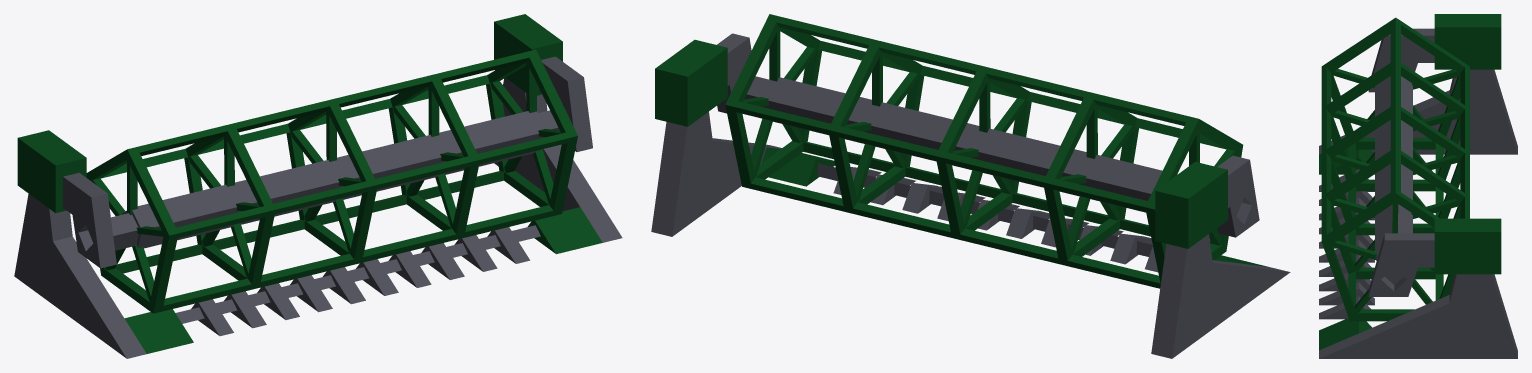
The model's file is Agricultural_Machine_2.fbx.
3 renders of one model, left to right at view 1: azimuth 30°, elevation 25°; view 2: azimuth 150°, elevation 25°; view 3: azimuth 270°, elevation 25°, orthographic. The views are drawn at different scales.
Parts seen in each view (by area): view 1: Agricultural_Machine_2; view 2: Agricultural_Machine_2; view 3: Agricultural_Machine_2.
Boxes of the visible parts, bbox=[...] form: Agricultural_Machine_2: bbox=[14, 14, 622, 358]; Agricultural_Machine_2: bbox=[651, 14, 1290, 358]; Agricultural_Machine_2: bbox=[1319, 14, 1517, 358].
Size of the model in its own units: 132 by 41.47 by 50.74.
